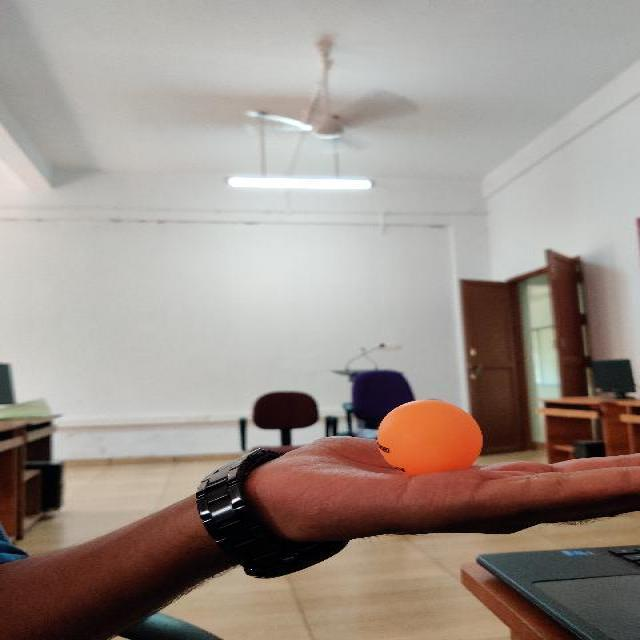oball: (378, 401, 482, 474)
